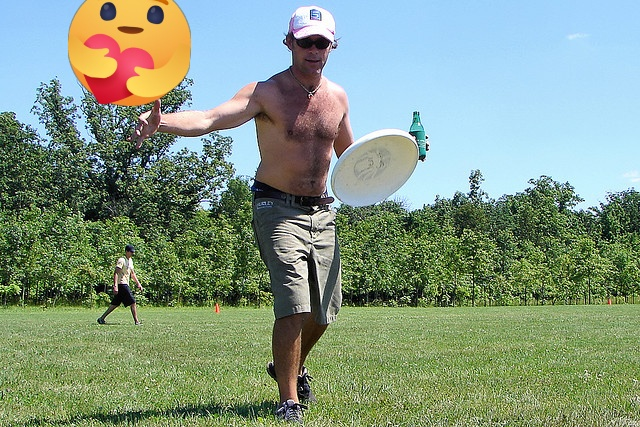care: (68, 0, 191, 106)
